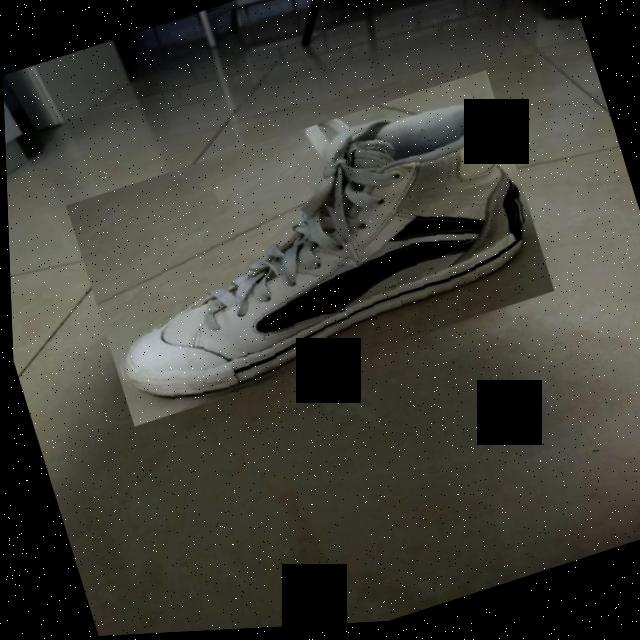shoe: (61, 72, 555, 430)
